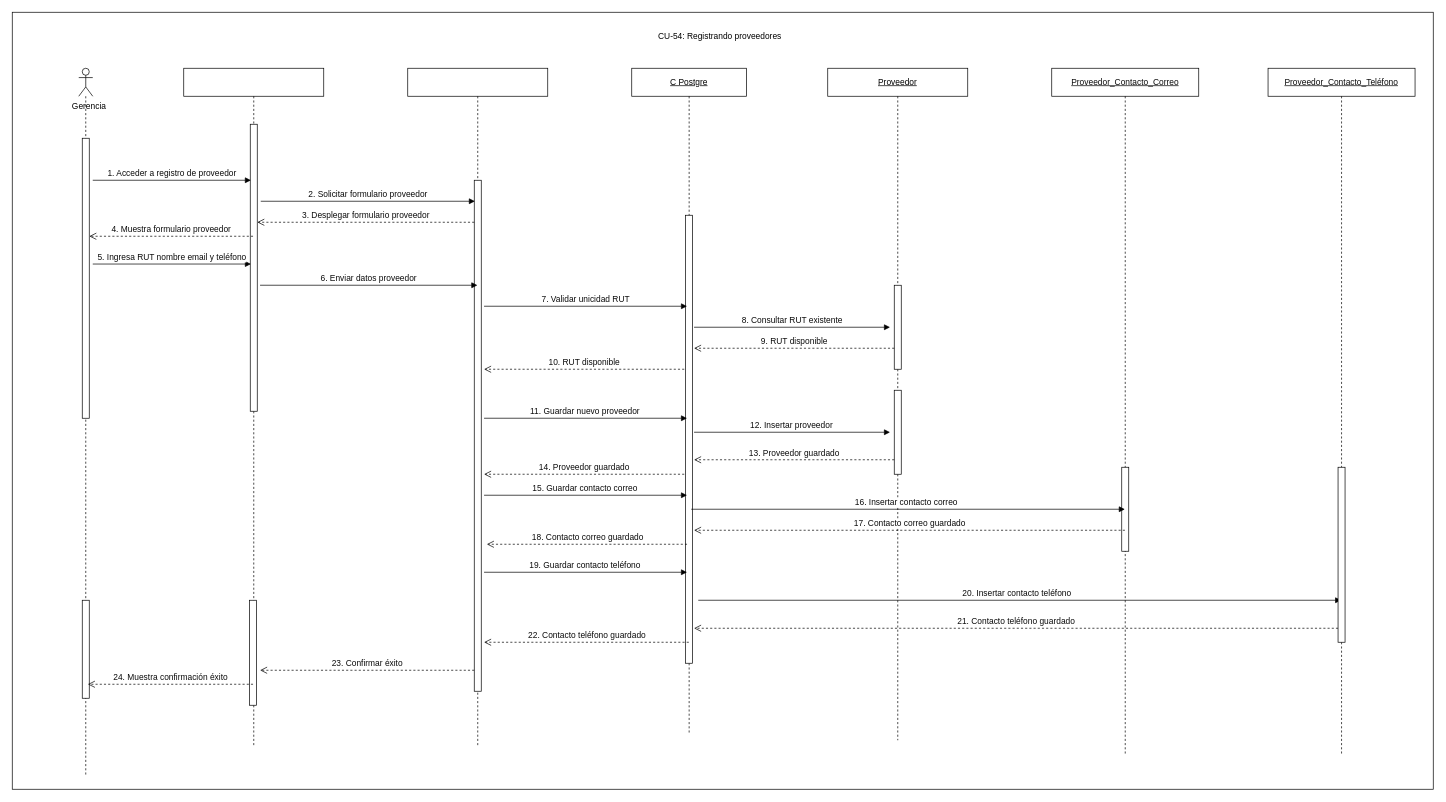
This 1446x802 diagram has some shape labels left out. The box of each missing label's shape, as (x1, y1, x2, y2) in pixels:
C_proveedores: (407, 68, 548, 747)
V Nuevo Proveedor: (183, 68, 324, 747)
